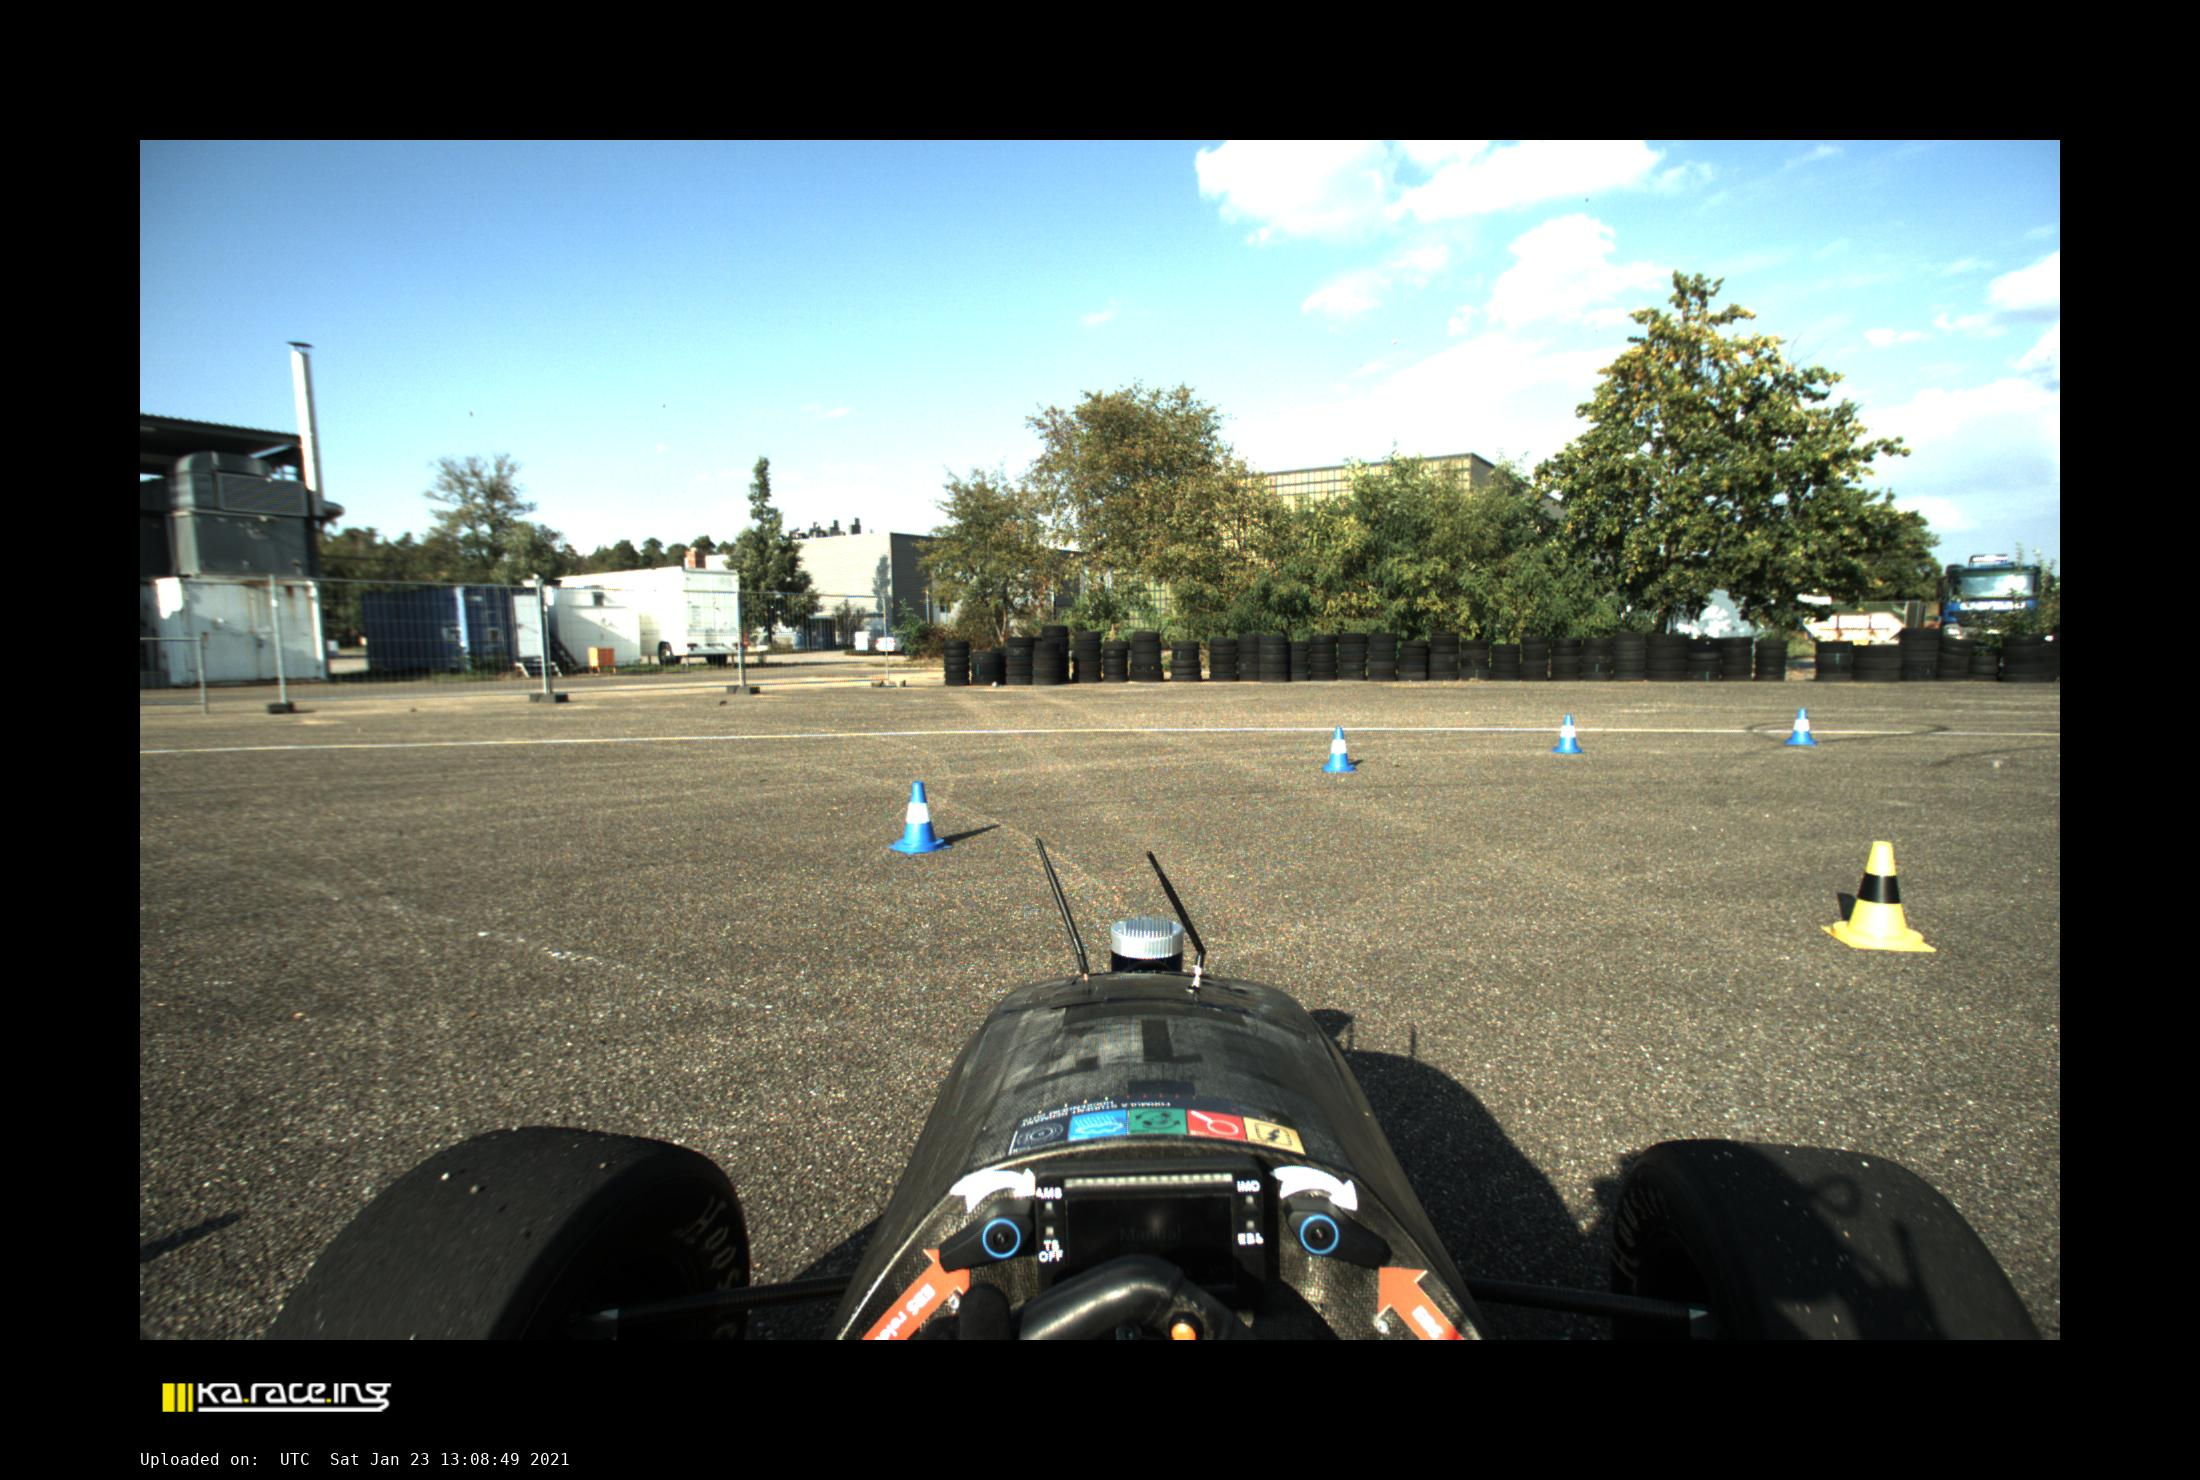blue_cone: (887, 781, 950, 854), (1321, 727, 1354, 771), (1785, 709, 1817, 745), (1553, 715, 1582, 753)
yellow_cone: (1822, 841, 1937, 951)
